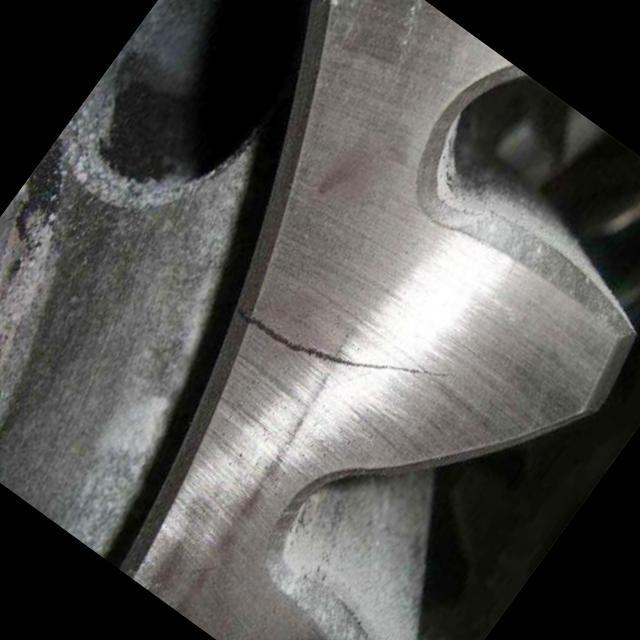defect: (231, 299, 455, 383)
